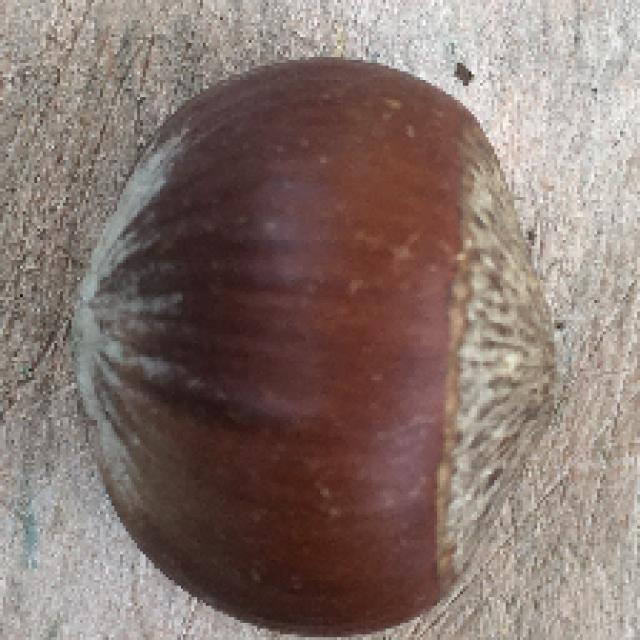damagedHazelnut: (69, 55, 576, 638)
